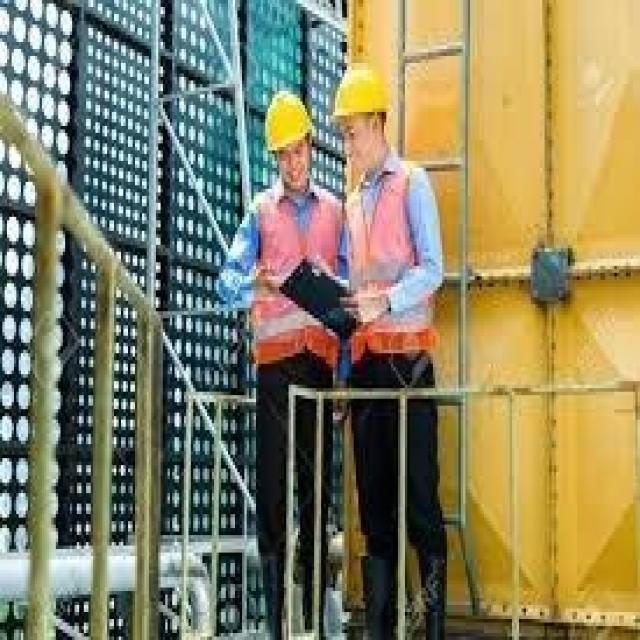helmet: (331, 59, 395, 131), (259, 89, 315, 151)
vest: (340, 158, 442, 368), (250, 180, 346, 378)
